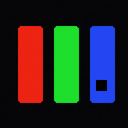1 square: (96, 80, 106, 90)
